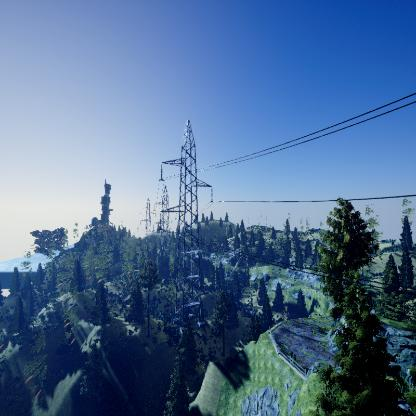tower: (154, 113, 218, 342)
